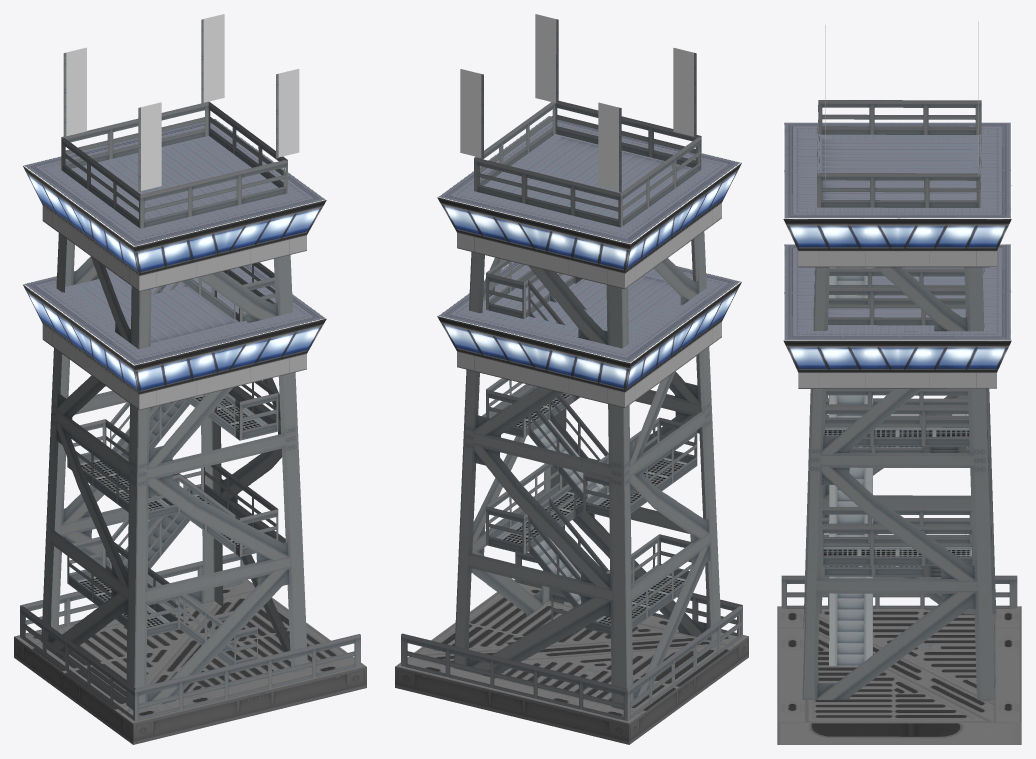
File: pro_stewards_tower.fbx
3 views of the same model, side by side, from view 1: azimuth 30°, elevation 25°; view 2: azimuth 150°, elevation 25°; view 3: azimuth 270°, elevation 25° (orthographic). The views are drawn at different scales.
Parts seen in each view (by area): view 1: pro_stewards_tower, tower_attachment_slanted; view 2: pro_stewards_tower, tower_attachment_slanted; view 3: pro_stewards_tower, tower_attachment_slanted.
Part boxes in pixels (x1=…): pro_stewards_tower: x1=22, y1=14, x2=326, y2=709; tower_attachment_slanted: x1=14, y1=553, x2=366, y2=744; pro_stewards_tower: x1=437, y1=14, x2=741, y2=709; tower_attachment_slanted: x1=395, y1=552, x2=748, y2=744; pro_stewards_tower: x1=783, y1=21, x2=1011, y2=700; tower_attachment_slanted: x1=777, y1=575, x2=1021, y2=744.
Bounding box in the file's own units: 1147 × 2876 × 1014.
